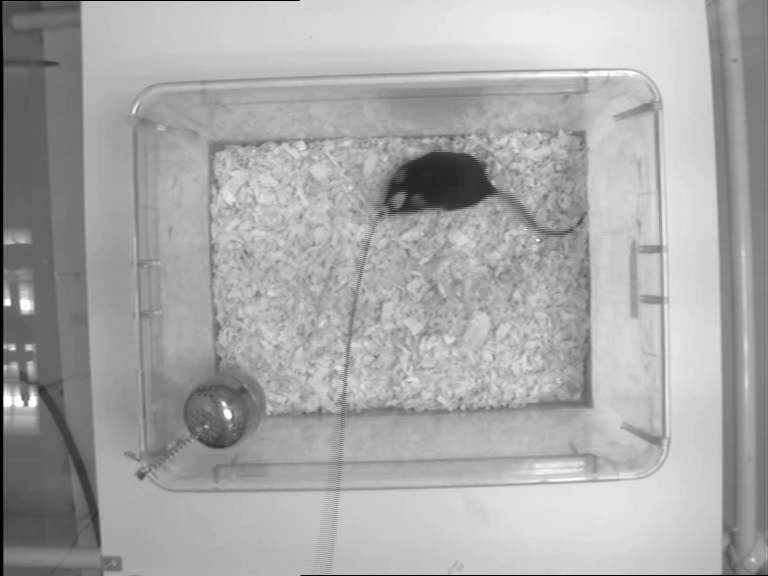mice: (381, 147, 589, 236)
